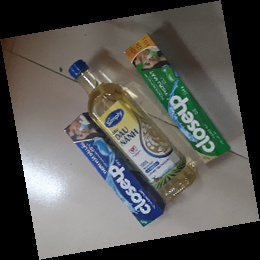CloseUp Tuyet: (64, 112, 166, 229)
CloseUp Xanh: (123, 33, 231, 167)
Simply: (67, 59, 199, 199)
